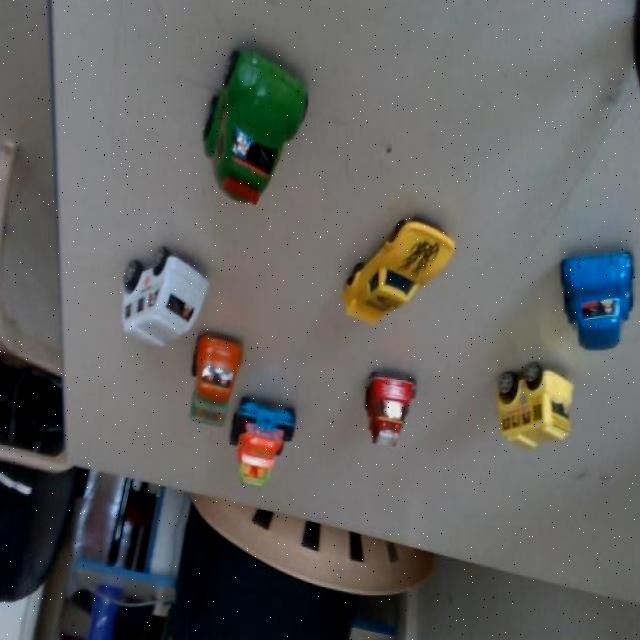car: (160, 12, 330, 215), (108, 222, 230, 372), (330, 206, 462, 328), (230, 397, 308, 497), (560, 246, 637, 347), (486, 354, 567, 445), (183, 324, 247, 436), (350, 357, 418, 453)
